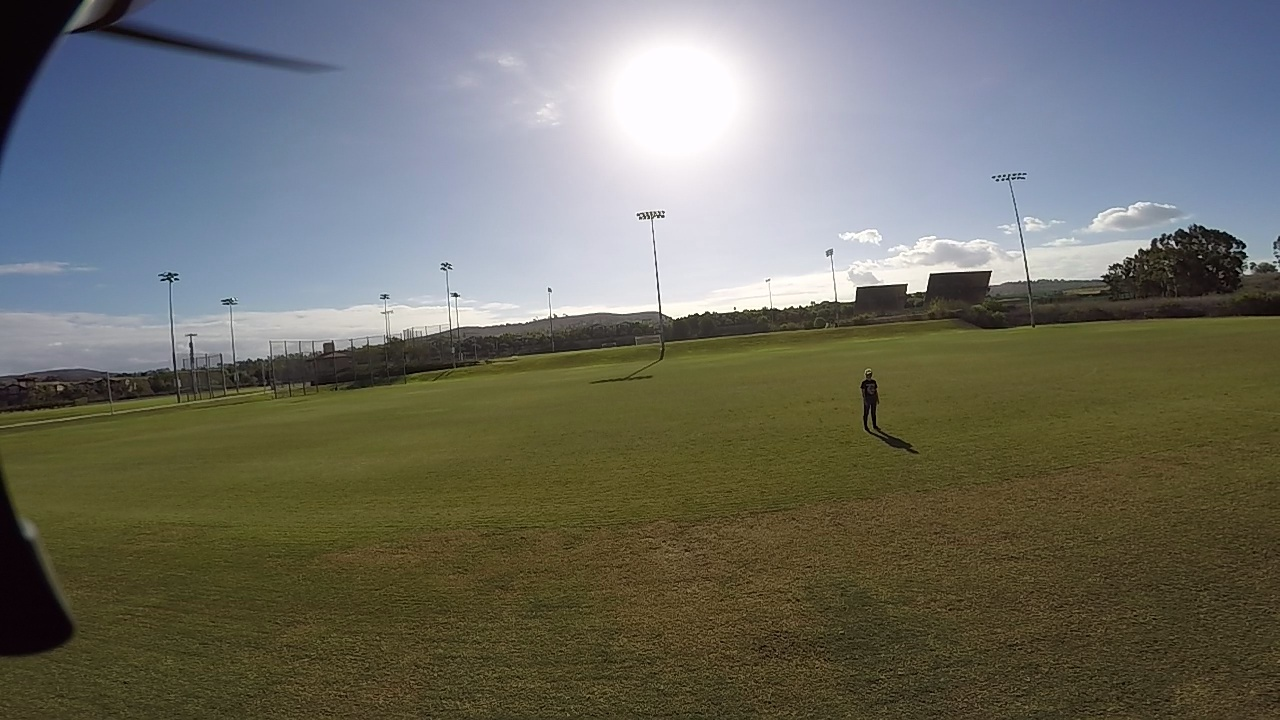person: (857, 361, 918, 449)
